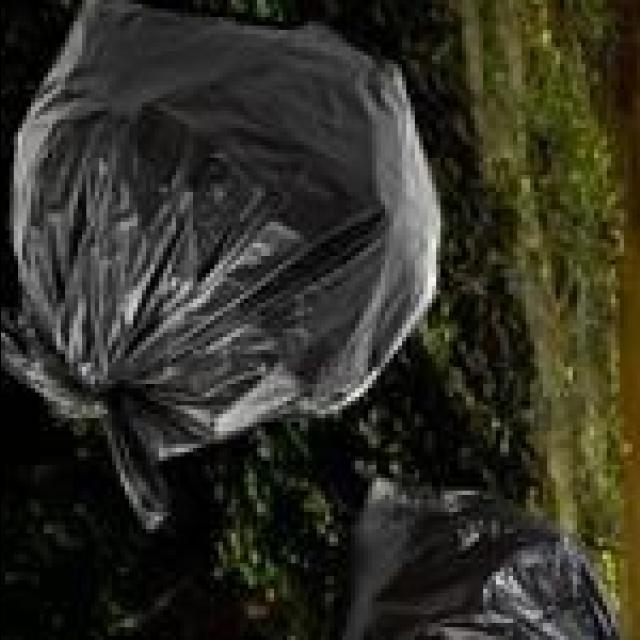Trashbag: (0, 4, 444, 535)
